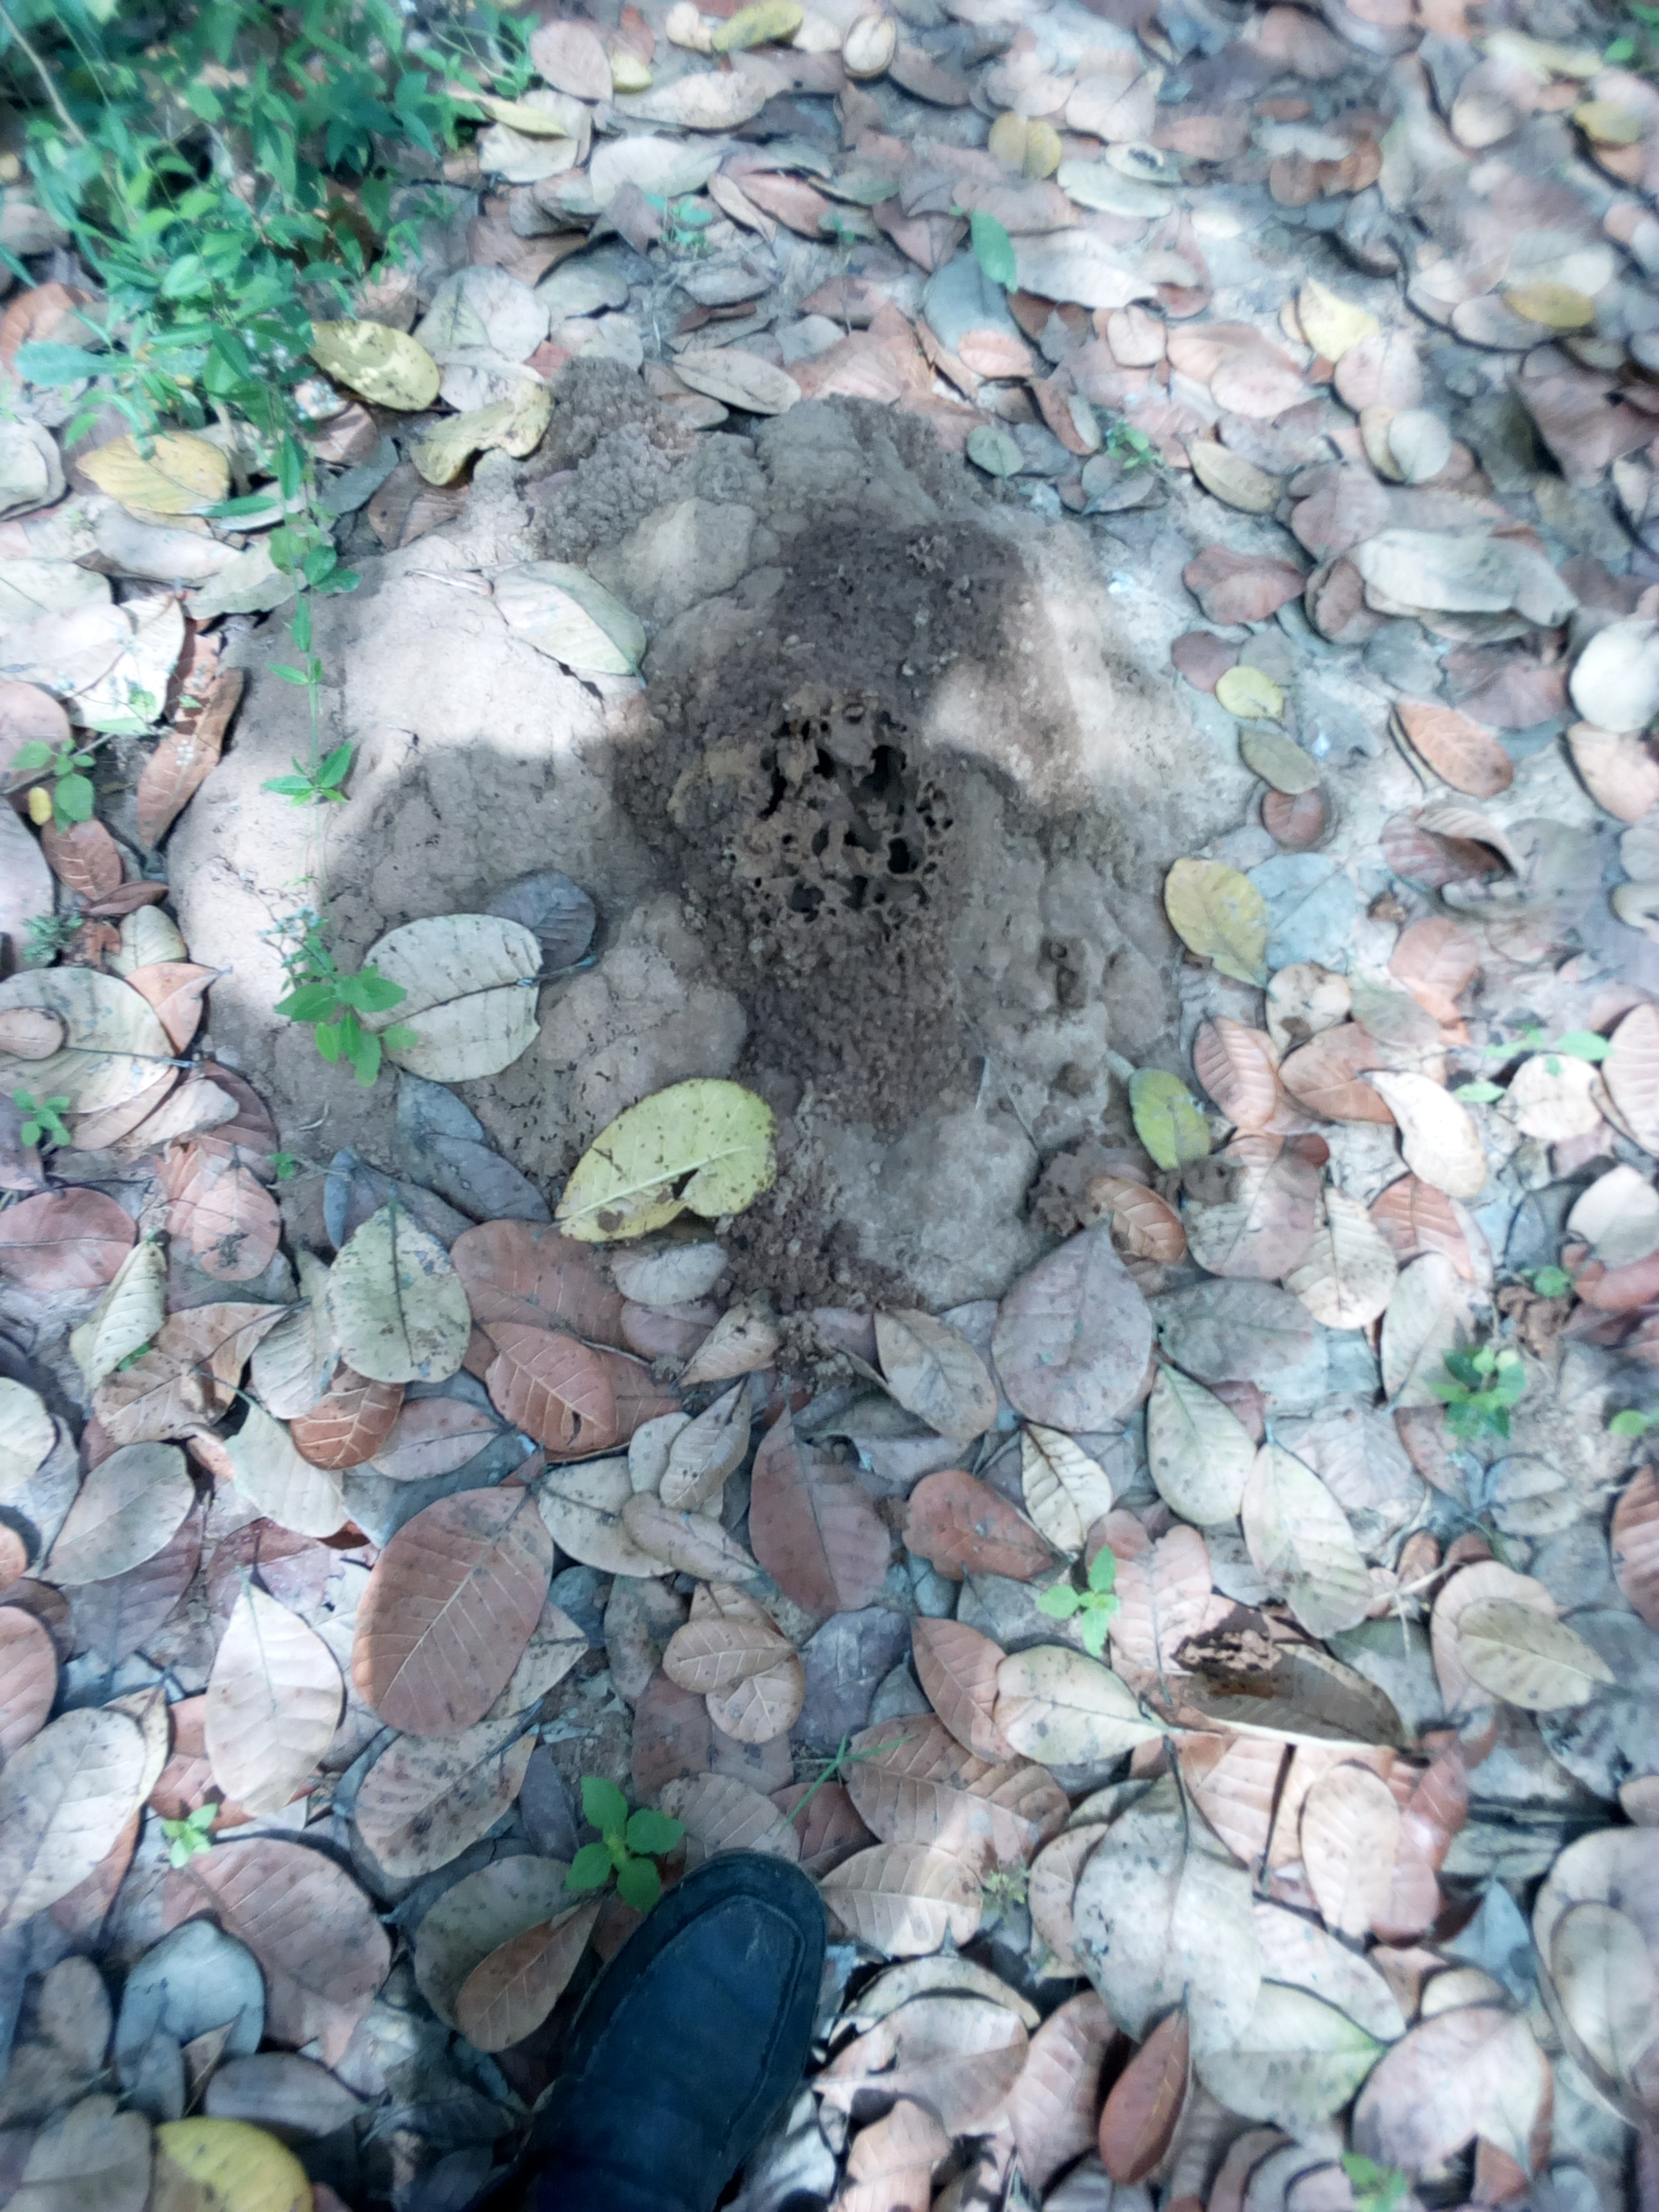Termites: (308, 425, 1195, 1167)
